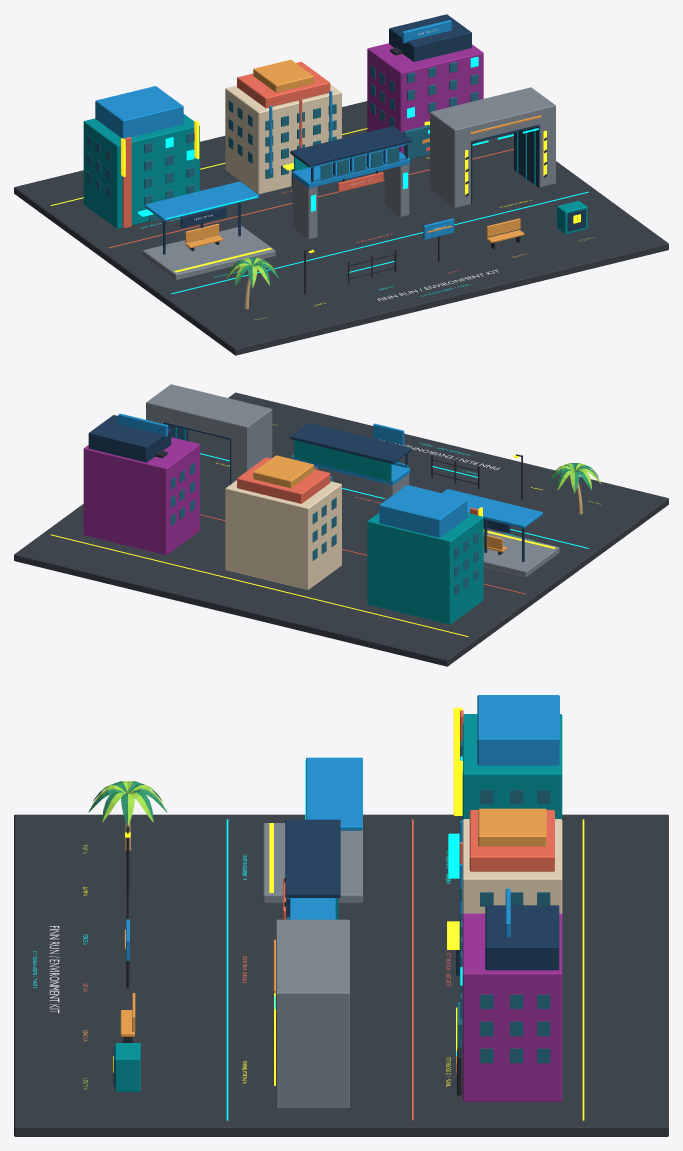
Rendered from environment_catalogue.glb.
The picture shows the model from 3 angles, top to bottom: view 1: azimuth 30°, elevation 25°; view 2: azimuth 150°, elevation 25°; view 3: azimuth 270°, elevation 25°; orthographic projection. The views are drawn at different scales.
Visible parts, largest first — view 1: Presentation_Ground, A_Main, B_Main, C_Main, Tunnel_Header, Station_Platform, A_Upper, Tunnel_LeftWall, Bridge_Roof, C_Setback, Station_Canopy, City_Block_B_Windows_FR_Glass (+16 smaller); view 2: Presentation_Ground, C_Main, A_Main, B_Main, Tunnel_Header, A_Upper, C_Setback, Bridge_Roof, Station_Platform, Bridge_RearPanel, B_Crown, Tunnel_LeftWall (+10 smaller); view 3: Presentation_Ground, C_Main, Tunnel_RightWall, Tunnel_Header, A_Upper, A_Main, C_Setback, Bridge_Roof, B_Main, Station_Canopy, Station_Platform, B_Crown (+9 smaller).
Boxes of the visible parts, left/top/right/bottom form: Presentation_Ground: left=14, top=101, right=668, bottom=355; A_Main: left=83, top=114, right=199, bottom=228; B_Main: left=225, top=84, right=341, bottom=194; C_Main: left=367, top=43, right=483, bottom=153; Tunnel_Header: left=430, top=87, right=555, bottom=144; Station_Platform: left=142, top=226, right=275, bottom=280; A_Upper: left=95, top=86, right=183, bottom=138; Tunnel_LeftWall: left=430, top=121, right=470, bottom=207; Bridge_Roof: left=290, top=126, right=411, bottom=167; C_Setback: left=389, top=14, right=471, bottom=61; Station_Canopy: left=144, top=181, right=259, bottom=220; City_Block_B_Windows_FR_Glass: left=228, top=100, right=336, bottom=178; Presentation_Ground: left=14, top=392, right=668, bottom=666; C_Main: left=83, top=437, right=199, bottom=555; A_Main: left=367, top=513, right=483, bottom=624; B_Main: left=225, top=480, right=341, bottom=589; Tunnel_Header: left=146, top=384, right=272, bottom=441; A_Upper: left=379, top=485, right=467, bottom=537; C_Setback: left=88, top=415, right=171, bottom=462; Bridge_Roof: left=290, top=423, right=411, bottom=463; Station_Platform: left=483, top=529, right=559, bottom=577; Bridge_RearPanel: left=294, top=440, right=391, bottom=481; B_Crown: left=237, top=457, right=330, bottom=503; Tunnel_LeftWall: left=231, top=419, right=272, bottom=483; Presentation_Ground: left=14, top=814, right=668, bottom=1136; C_Main: left=462, top=913, right=562, bottom=1101; Tunnel_RightWall: left=276, top=1006, right=349, bottom=1108; Tunnel_Header: left=276, top=919, right=349, bottom=1014; A_Upper: left=477, top=695, right=559, bottom=765; A_Main: left=462, top=714, right=562, bottom=819; C_Setback: left=485, top=905, right=559, bottom=970; Bridge_Roof: left=285, top=819, right=340, bottom=897; B_Main: left=462, top=819, right=562, bottom=913; Station_Canopy: left=306, top=757, right=362, bottom=830; Station_Platform: left=263, top=823, right=362, bottom=903; B_Crown: left=469, top=810, right=554, bottom=871.
Size of the model in its own units: 52 by 13.75 by 46.
